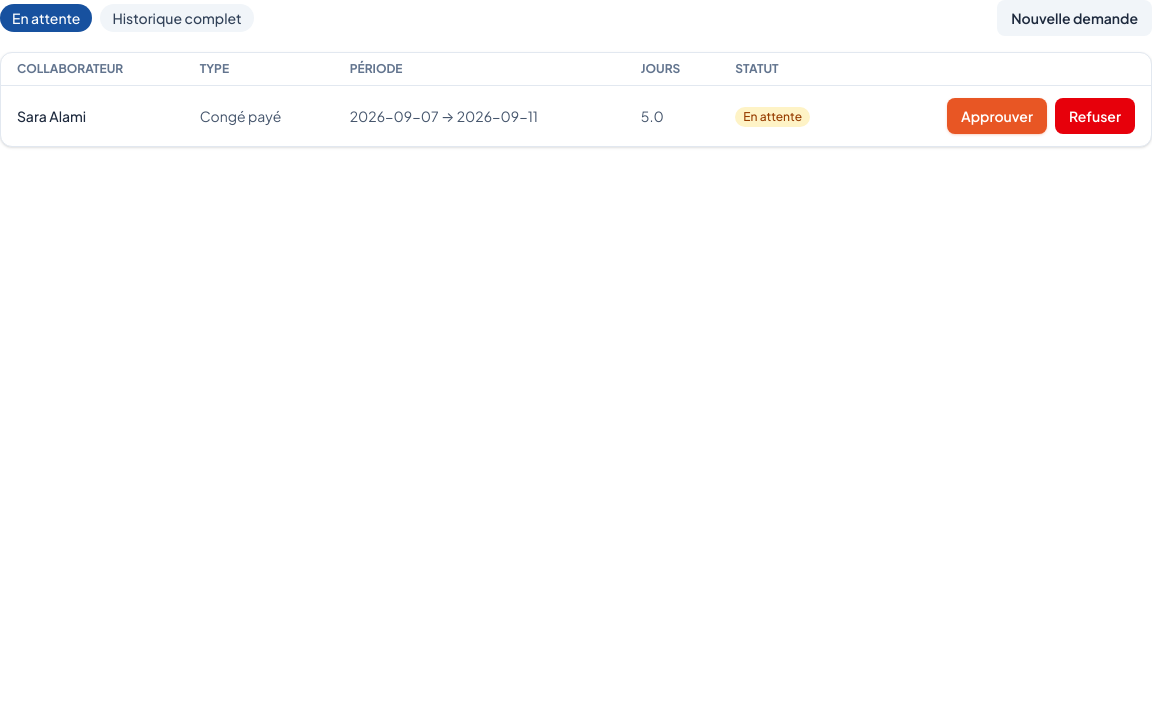
LeaveQueue (HR) › requires a comment before rejecting
Check: the button "Sara Alami" is shown, box x1=17 y1=106 x2=86 y2=126
Click the button "Refuser": [1095, 116] box x1=1055 y1=98 x2=1135 y2=134
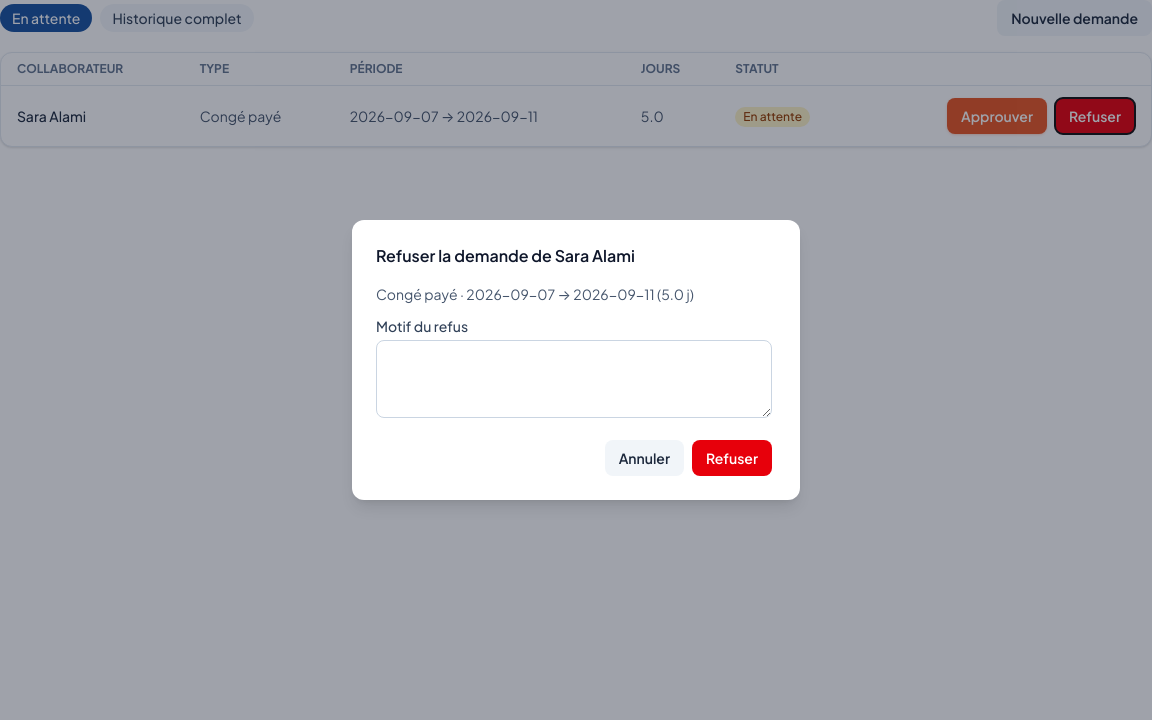
Click the button "Refuser": [732, 458] box x1=692 y1=440 x2=772 y2=476
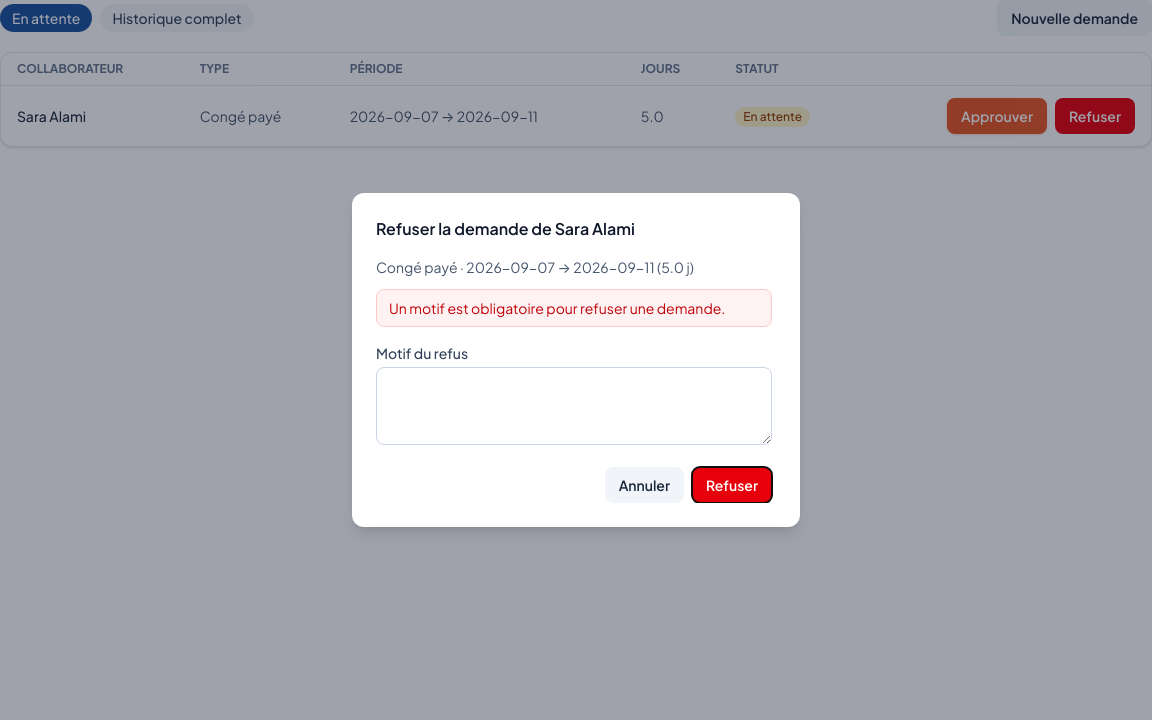
Check: the text "Un motif est obligatoire pour refuser une demande." is shown, box x1=376 y1=289 x2=772 y2=327
